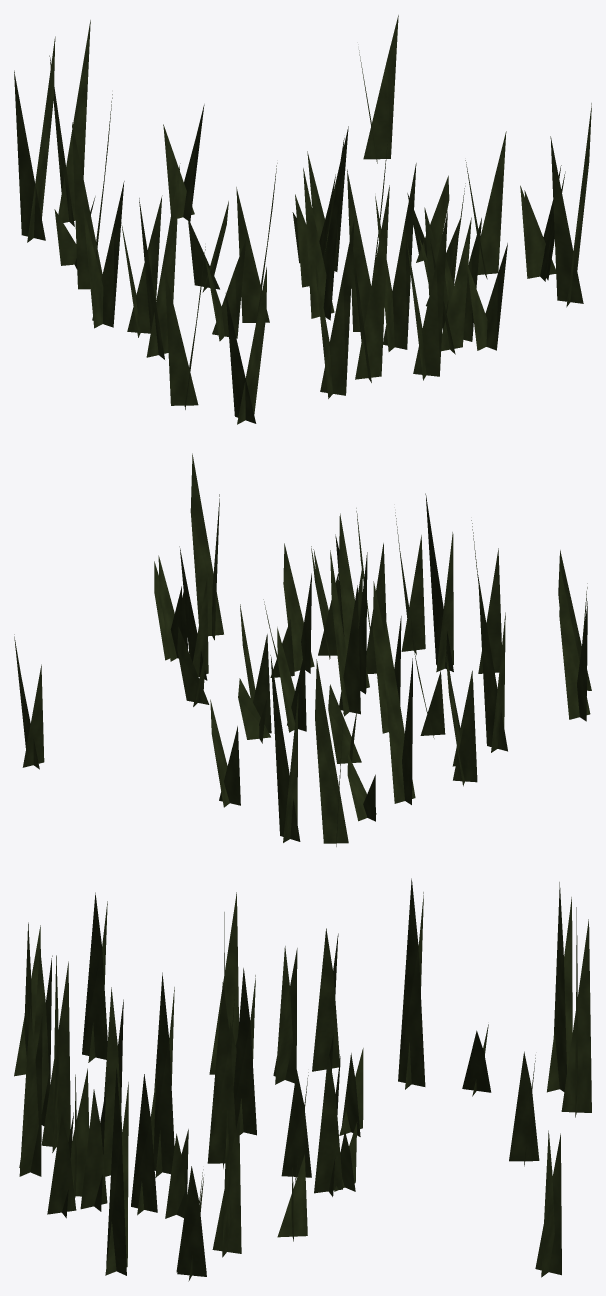
The model's file is Grass_Patch_03.glb.
The picture shows the model from 3 angles, top to bottom: view 1: azimuth 30°, elevation 25°; view 2: azimuth 150°, elevation 25°; view 3: azimuth 270°, elevation 25°; orthographic projection. The views are drawn at different scales.
Parts seen in each view (by area): view 1: Grass_Patch_03; view 2: Grass_Patch_03; view 3: Grass_Patch_03.
Boxes of the visible parts, x1,y1,x2,y2 form: Grass_Patch_03: (14, 15, 591, 424); Grass_Patch_03: (14, 453, 591, 846); Grass_Patch_03: (14, 878, 591, 1281).
Bounding box in the file's own units: 0.9194 × 0.3976 × 0.9455.
Materials: 1 (1 with a texture image).
